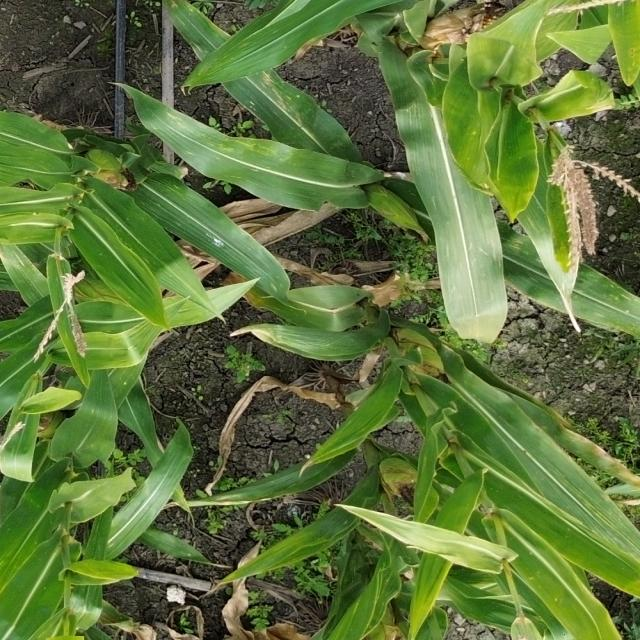gray-leaf-spot: (257, 73, 310, 118)
southern-leaf-blight: (579, 278, 638, 328), (2, 245, 40, 275), (616, 40, 640, 83), (86, 520, 110, 558)
